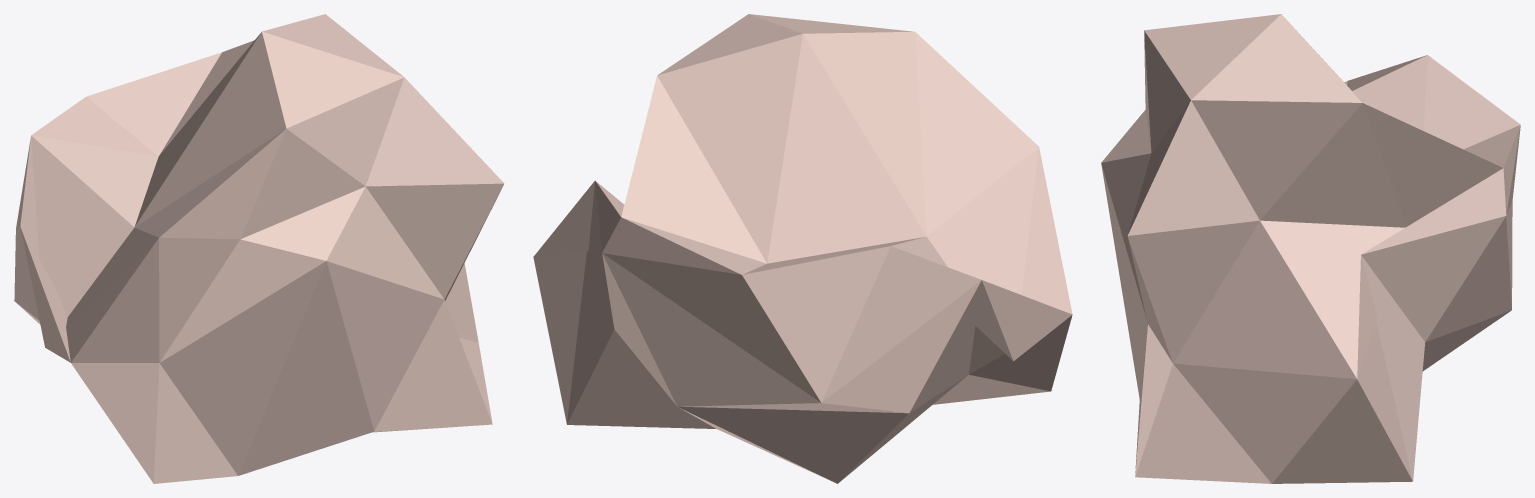
File: Trash_paper.fbx
3 renders of one model, left to right at view 1: azimuth 30°, elevation 25°; view 2: azimuth 150°, elevation 25°; view 3: azimuth 270°, elevation 25°, orthographic.
Parts seen in each view (by area): view 1: Trash; view 2: Trash; view 3: Trash.
Boxes of the visible parts, bbox=[...] form: Trash: bbox=[14, 14, 504, 483]; Trash: bbox=[533, 14, 1072, 483]; Trash: bbox=[1101, 14, 1520, 483].
Bounding box in the file's own units: 48.81 × 41.77 × 38.27.
